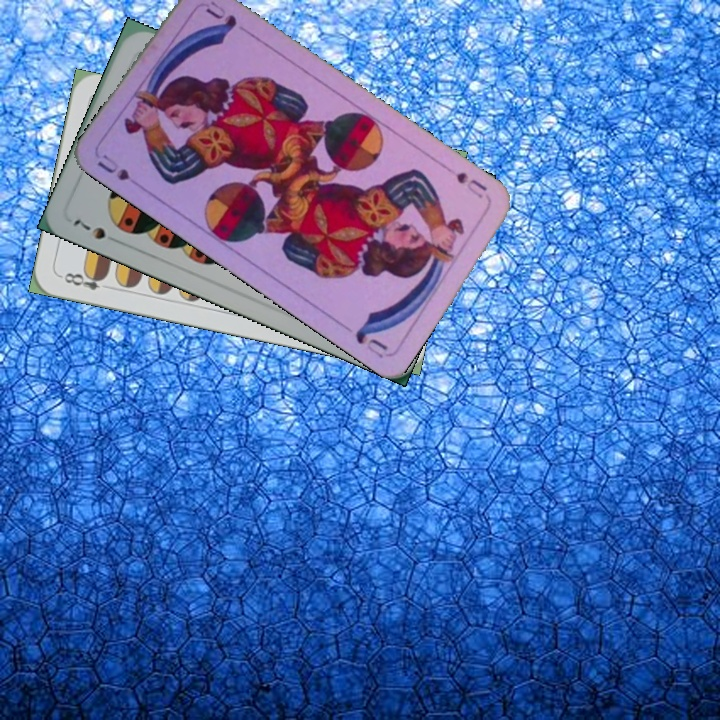E8: (57, 267, 109, 293)
S7: (69, 214, 109, 242)
SU: (441, 164, 490, 202), (93, 150, 133, 183)
